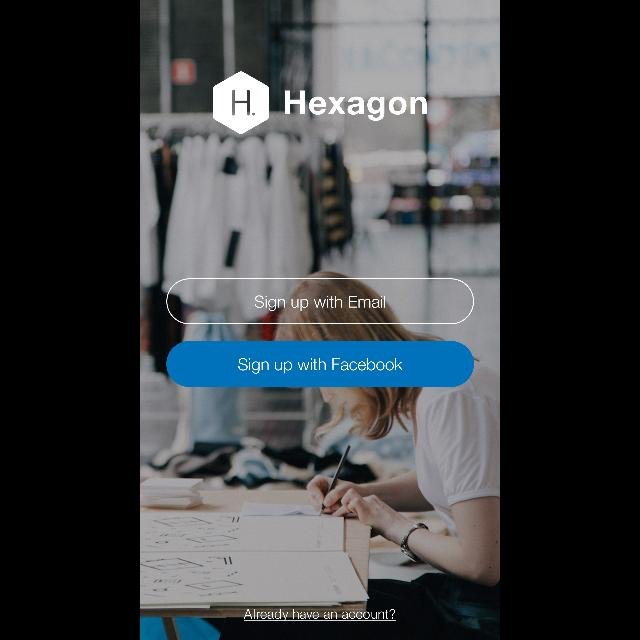backgroundimage: (140, 1, 500, 640)
image: (213, 72, 269, 134)
text: (285, 90, 427, 122), (244, 608, 396, 622)
textbutton: (166, 279, 474, 325), (166, 341, 474, 387)
